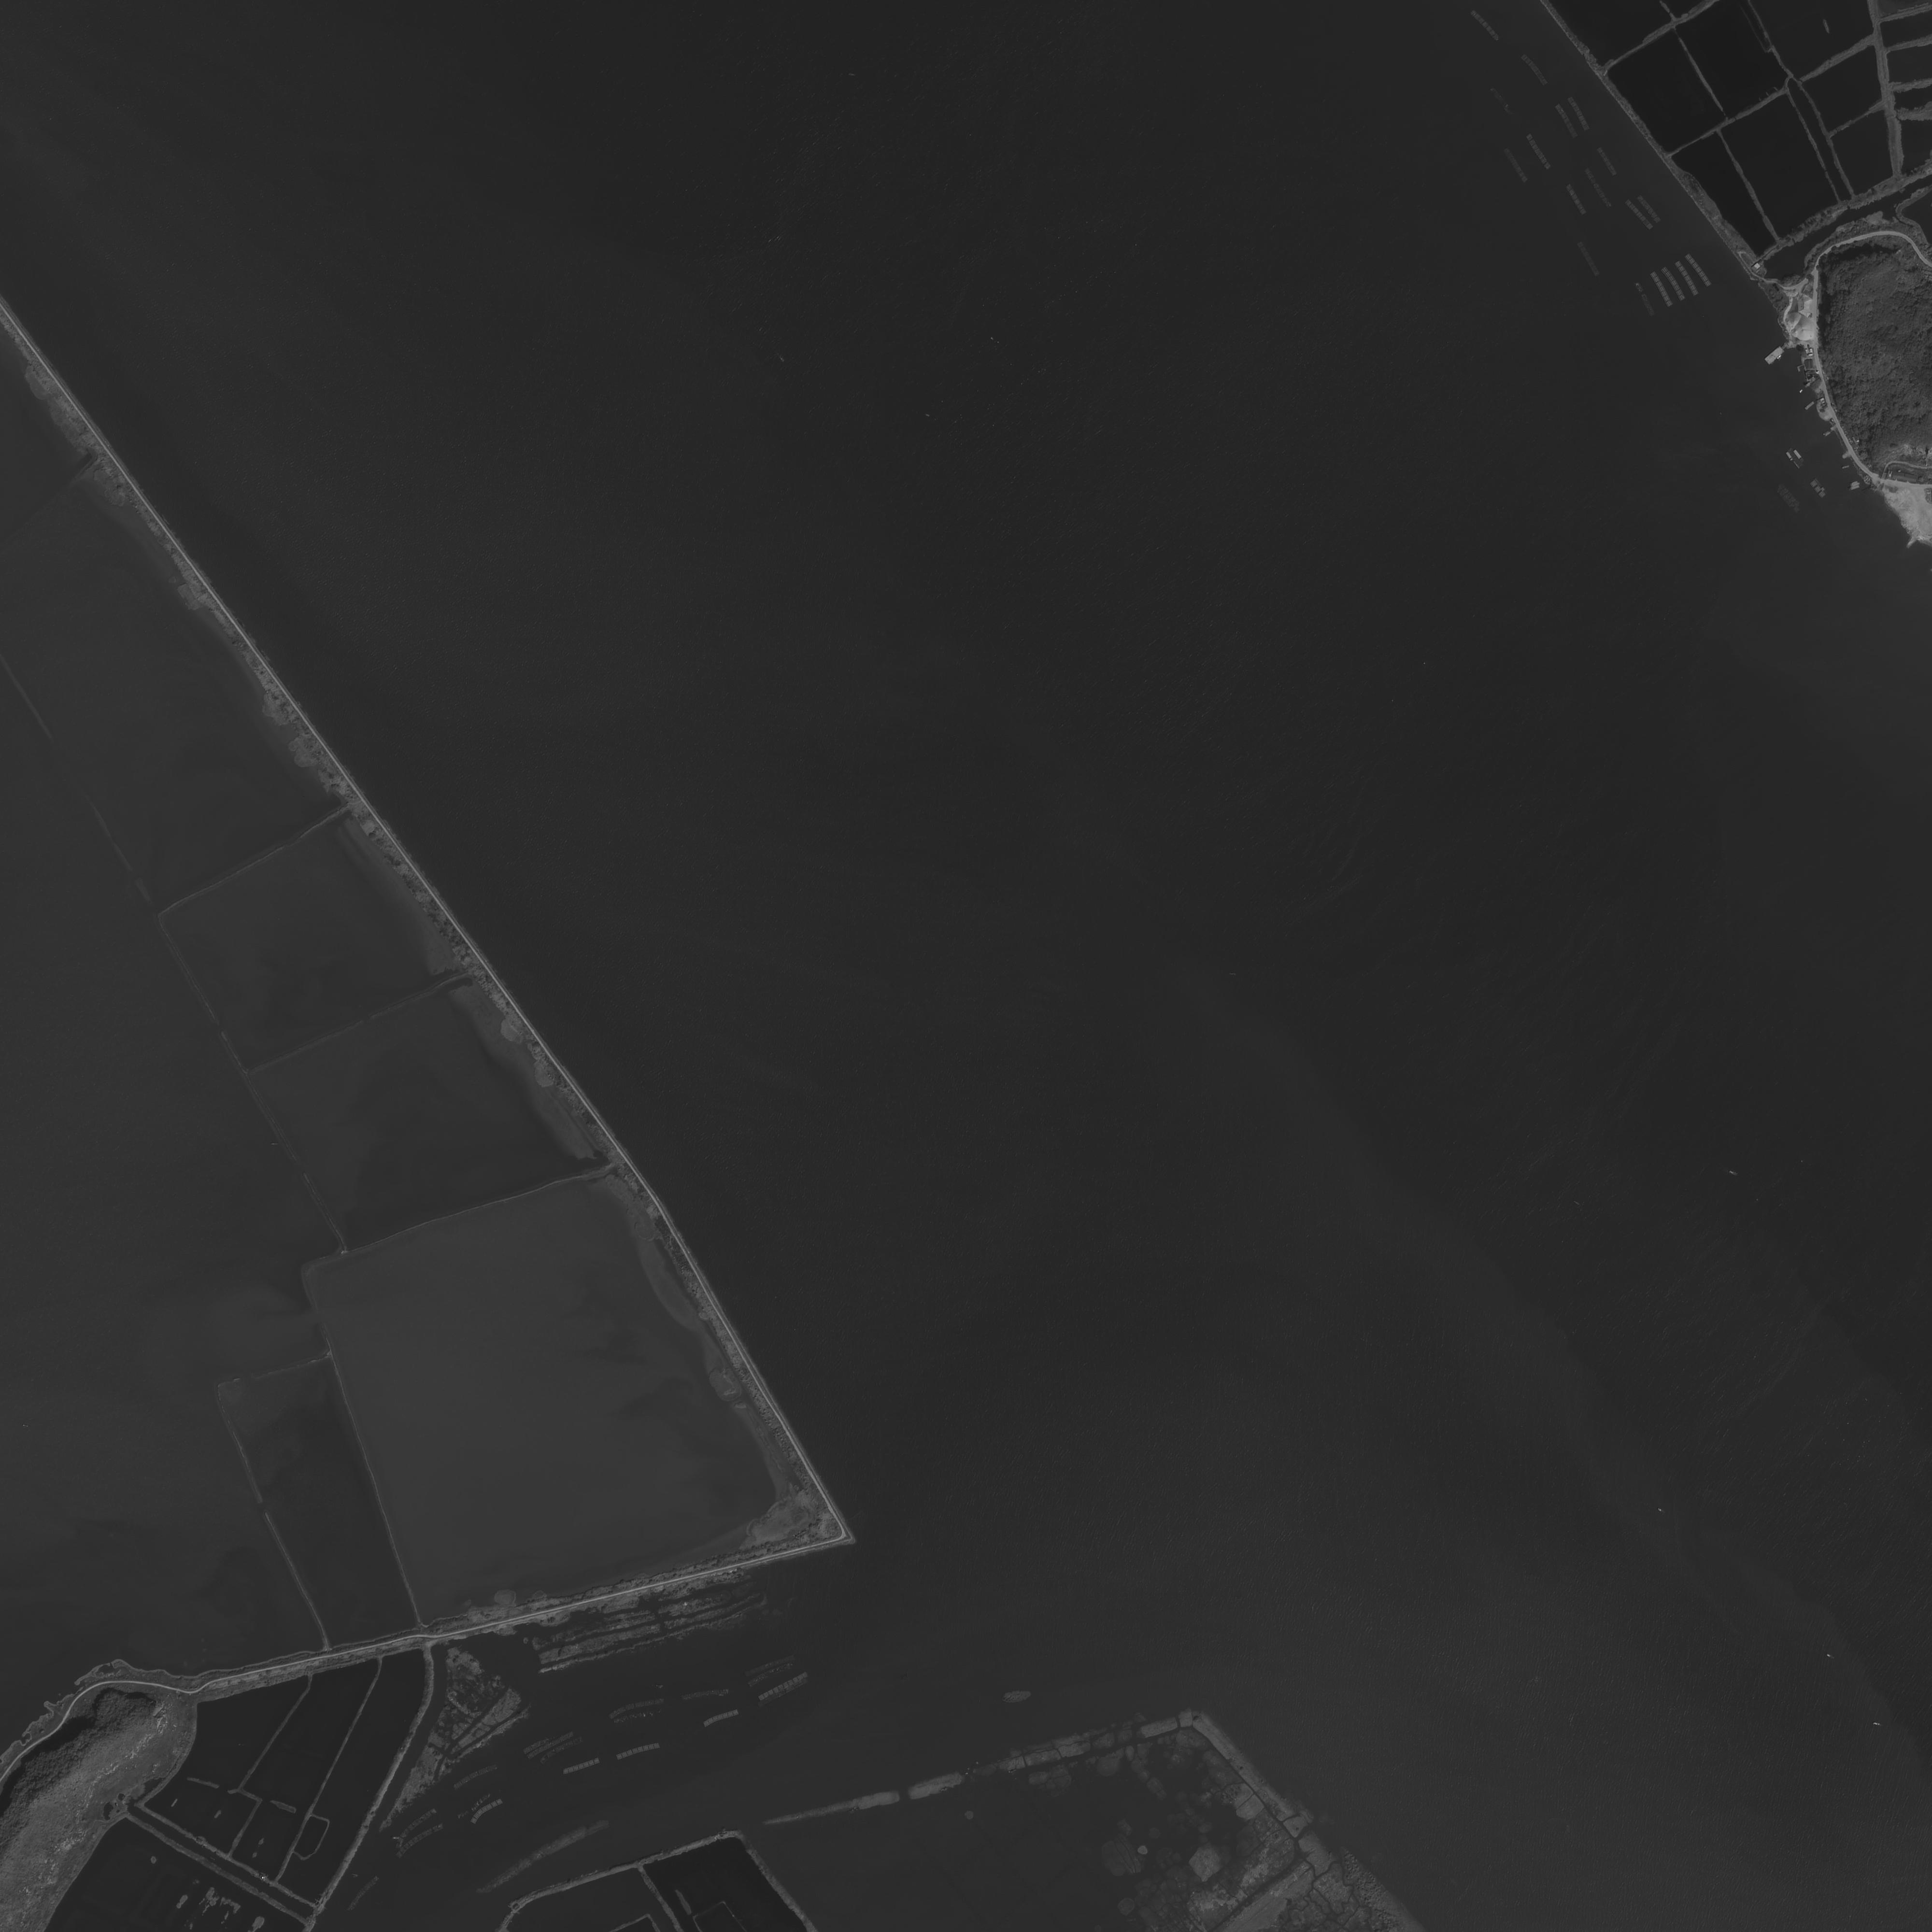harbor: (1764, 342, 1787, 366)
ship: (1790, 452, 1803, 468), (1814, 478, 1825, 492), (1821, 18, 1831, 34), (1804, 400, 1815, 411), (1785, 451, 1793, 461), (1794, 449, 1802, 459)
